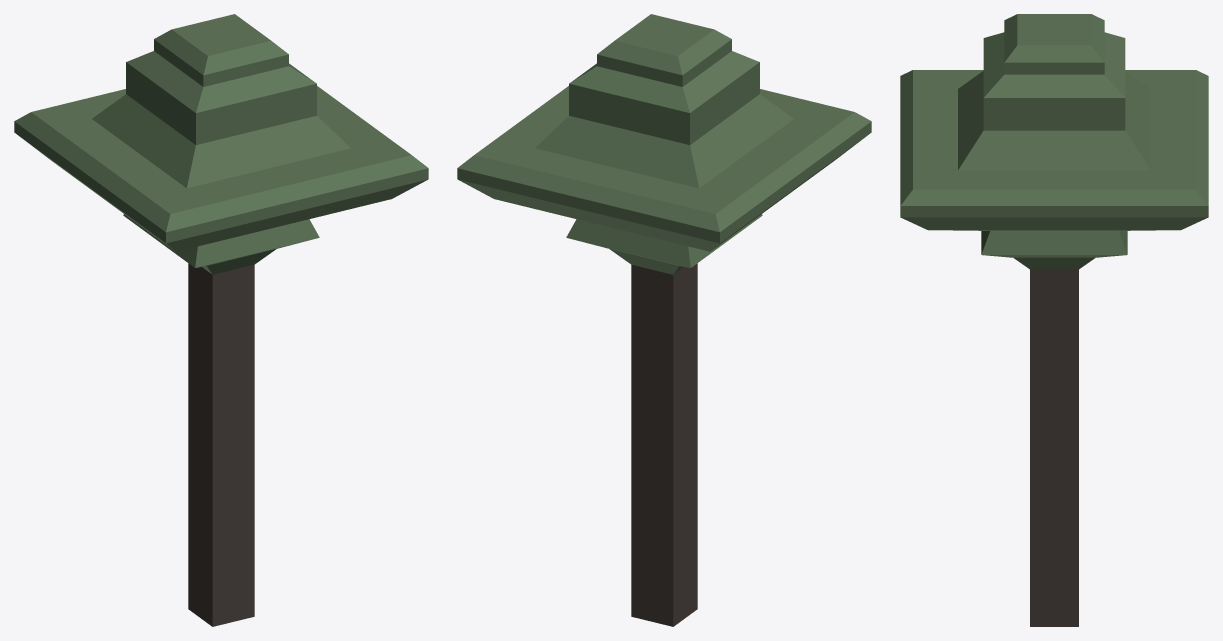
File: Tree2.fbx
3 views of the same model, side by side, from view 1: azimuth 30°, elevation 25°; view 2: azimuth 150°, elevation 25°; view 3: azimuth 270°, elevation 25° (orthographic).
Visible parts, largest first — view 1: Tree_2; view 2: Tree_2; view 3: Tree_2.
Part boxes in pixels (x1,y1,x2,y2): Tree_2: [14, 14, 428, 626]; Tree_2: [457, 14, 871, 626]; Tree_2: [900, 14, 1208, 626].
Size of the model in its own units: 3.12 by 6.57 by 3.12.
